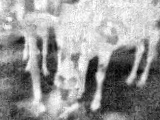eye: (65, 90, 78, 98)
